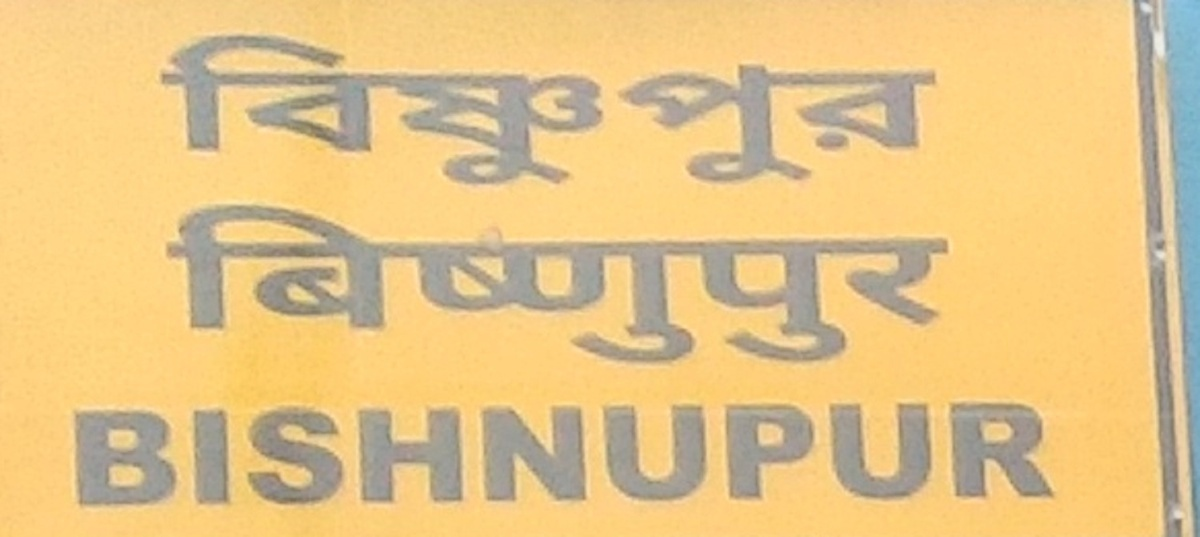text: (929, 30, 945, 193), (161, 196, 176, 369), (177, 196, 192, 369), (193, 196, 208, 369), (209, 196, 224, 369), (225, 196, 240, 369), (241, 196, 256, 369), (257, 196, 272, 369), (273, 196, 288, 369), (289, 196, 304, 369), (305, 196, 320, 369), (321, 196, 336, 369), (337, 196, 352, 369), (353, 196, 368, 369), (369, 196, 384, 369), (385, 196, 400, 369), (401, 196, 416, 369), (417, 196, 432, 369), (433, 196, 448, 369), (449, 196, 464, 369), (465, 196, 480, 369), (481, 196, 496, 369), (497, 196, 512, 369), (513, 196, 528, 369), (529, 196, 544, 369), (545, 196, 560, 369), (561, 196, 576, 369), (577, 196, 592, 369), (593, 196, 608, 369), (609, 196, 624, 369), (625, 196, 640, 369), (641, 196, 656, 369), (657, 196, 672, 369), (673, 196, 688, 369), (689, 196, 704, 369), (705, 196, 720, 369), (721, 196, 736, 369), (737, 196, 752, 369), (753, 196, 768, 369), (769, 196, 784, 369), (785, 196, 800, 369), (801, 196, 816, 369), (817, 196, 832, 369), (833, 196, 848, 369), (849, 196, 864, 369), (865, 196, 880, 369), (881, 196, 896, 369), (897, 196, 912, 369), (913, 196, 928, 369), (929, 196, 944, 369), (145, 30, 160, 193), (161, 30, 176, 193), (177, 30, 192, 193), (193, 30, 208, 193), (209, 30, 224, 193), (225, 30, 240, 193), (241, 30, 256, 193), (257, 30, 272, 193), (273, 30, 288, 193), (289, 30, 304, 193), (305, 30, 320, 193), (321, 30, 336, 193), (337, 30, 352, 193), (353, 30, 368, 193), (369, 30, 384, 193), (385, 30, 400, 193), (401, 30, 416, 193), (417, 30, 432, 193), (433, 30, 448, 193), (449, 30, 464, 193), (465, 30, 480, 193), (481, 30, 496, 193), (497, 30, 512, 193), (513, 30, 528, 193), (529, 30, 544, 193), (545, 30, 560, 193), (561, 30, 576, 193), (577, 30, 592, 193), (593, 30, 608, 193), (609, 30, 624, 193), (625, 30, 640, 193), (641, 30, 656, 193), (657, 30, 672, 193), (673, 30, 688, 193), (689, 30, 704, 193), (705, 30, 720, 193), (721, 30, 736, 193), (737, 30, 752, 193), (753, 30, 768, 193), (769, 30, 784, 193), (785, 30, 800, 193), (801, 30, 816, 193), (817, 30, 832, 193), (833, 30, 848, 193), (849, 30, 864, 193), (865, 30, 880, 193), (881, 30, 896, 193), (897, 30, 912, 193), (913, 30, 928, 193), (945, 196, 958, 369), (81, 397, 96, 513), (97, 397, 112, 513), (113, 397, 128, 513), (129, 397, 144, 513), (145, 397, 160, 513), (161, 397, 176, 513), (177, 397, 192, 513), (193, 397, 208, 513), (209, 397, 224, 513), (225, 397, 240, 513), (241, 397, 256, 513), (257, 397, 272, 513), (273, 397, 288, 513), (289, 397, 304, 513), (305, 397, 320, 513), (321, 397, 336, 513), (337, 397, 352, 513), (353, 397, 368, 513), (369, 397, 384, 513), (385, 397, 400, 513), (401, 397, 416, 513), (417, 397, 432, 513), (433, 397, 448, 513), (449, 397, 464, 513), (465, 397, 480, 513), (481, 397, 496, 513), (497, 397, 512, 513), (513, 397, 528, 513), (529, 397, 544, 513), (545, 397, 560, 513), (561, 397, 576, 513), (577, 397, 592, 513), (593, 397, 608, 513), (609, 397, 624, 513), (625, 397, 640, 513), (641, 397, 656, 513), (657, 397, 672, 513), (673, 397, 688, 513), (689, 397, 704, 513), (705, 397, 720, 513), (721, 397, 736, 513), (737, 397, 752, 513), (753, 397, 768, 513), (769, 397, 784, 513), (785, 397, 800, 513), (801, 397, 816, 513), (817, 397, 832, 513), (833, 397, 848, 513), (849, 397, 864, 513), (865, 397, 880, 513), (881, 397, 896, 513), (897, 397, 912, 513), (913, 397, 928, 513), (929, 397, 944, 513), (945, 397, 960, 513), (961, 397, 976, 513), (977, 397, 992, 513), (993, 397, 1008, 513), (1009, 397, 1024, 513), (1025, 397, 1040, 513), (1041, 397, 1056, 513), (70, 397, 80, 513), (154, 196, 160, 369), (1057, 397, 1063, 513), (140, 30, 144, 193)
